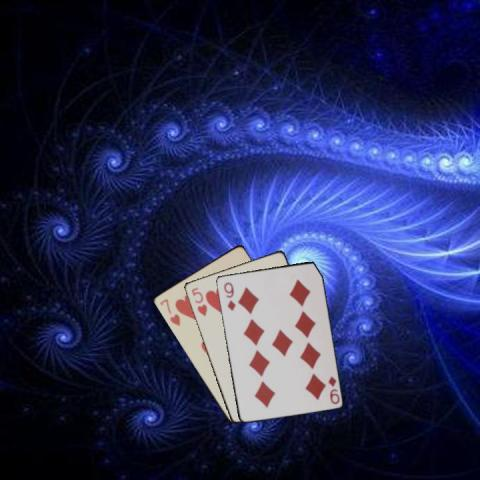5h: (189, 285, 208, 318)
7h: (157, 296, 181, 327)
9d: (220, 279, 236, 312), (325, 373, 340, 405)
